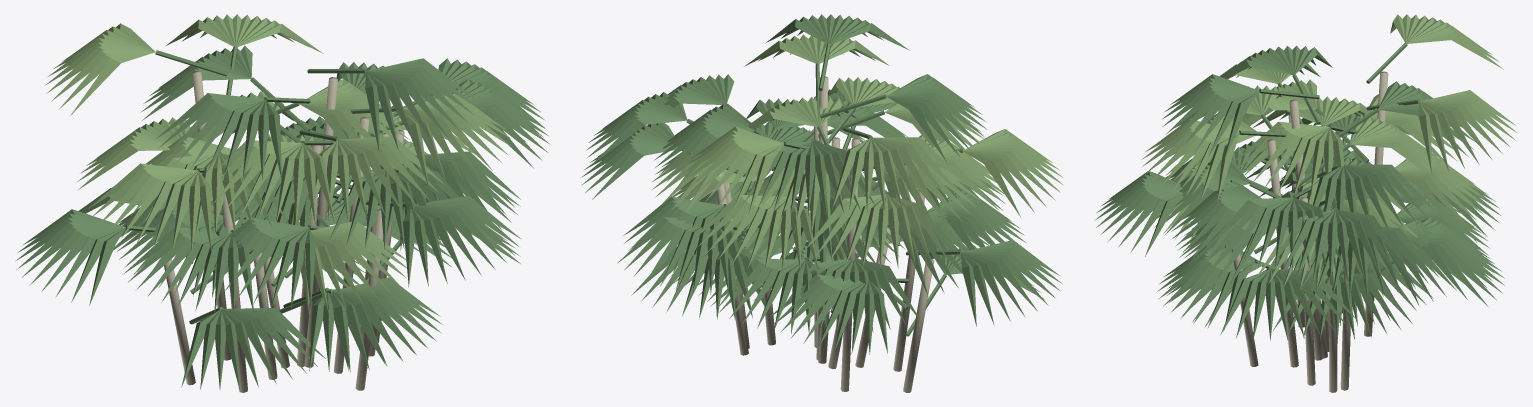
File: grove-specimen-14.glb
The picture shows the model from 3 angles, left to right: view 1: azimuth 30°, elevation 25°; view 2: azimuth 150°, elevation 25°; view 3: azimuth 270°, elevation 25°; orthographic projection. The views are drawn at different scales.
Visible parts, largest first — view 1: grove-specimen-14; view 2: grove-specimen-14; view 3: grove-specimen-14.
Boxes of the visible parts, x1,y1,x2,y2 form: grove-specimen-14: (15,14,550,392); grove-specimen-14: (581,14,1063,392); grove-specimen-14: (1094,14,1516,392).
Size of the model in its own units: 2.8 by 1.74 by 2.33.
